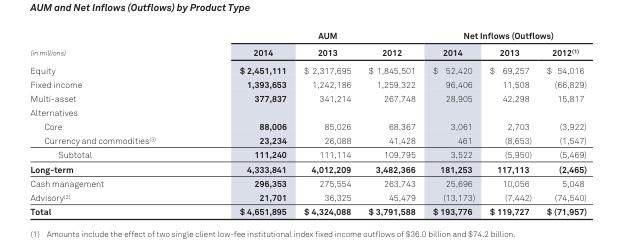table: (29, 29, 586, 217)
table column: (29, 29, 196, 217), (196, 29, 294, 217), (294, 29, 359, 217), (359, 29, 423, 217), (423, 29, 481, 217), (481, 29, 538, 217), (538, 29, 586, 217)
table column header: (29, 29, 586, 60)
table projected row header: (29, 105, 586, 118)
table row: (29, 43, 586, 60), (29, 60, 586, 77), (29, 146, 586, 161), (29, 175, 586, 190), (29, 29, 586, 43), (29, 77, 586, 91), (29, 91, 586, 105), (29, 118, 586, 132), (29, 132, 586, 146), (29, 161, 586, 175), (29, 190, 586, 204), (29, 105, 586, 118), (29, 204, 586, 217)
table spanning cell: (29, 29, 196, 60), (196, 29, 423, 43), (423, 29, 586, 43)
